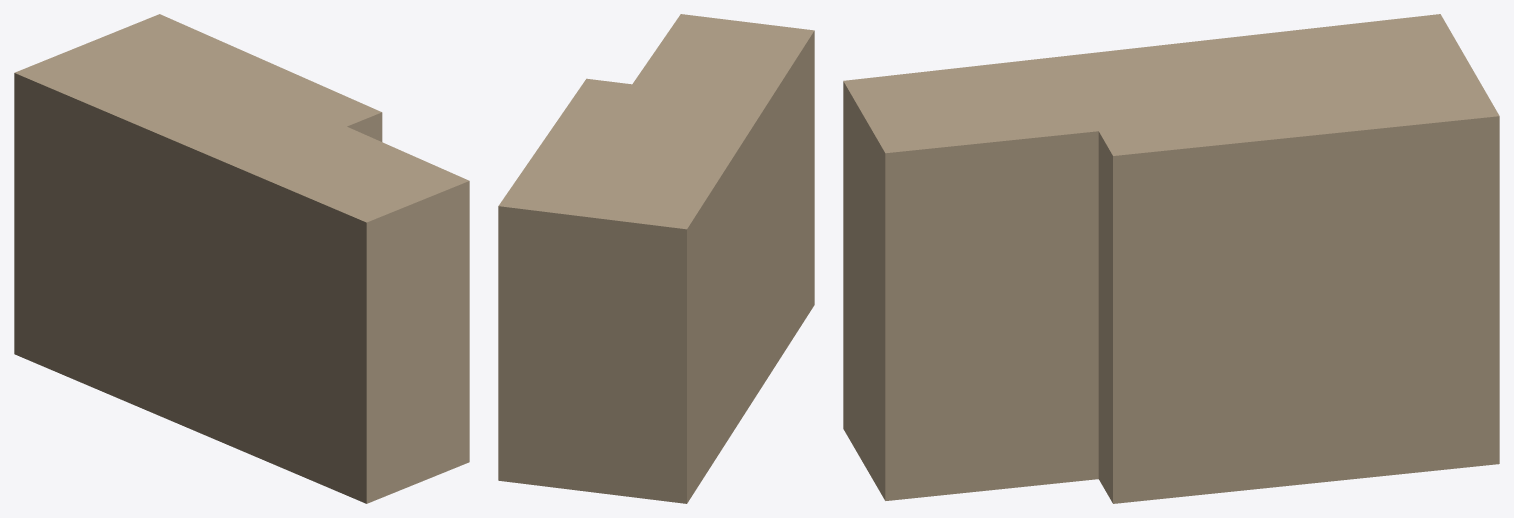
File: bld_107625395.dae
The picture shows the model from 3 angles, left to right: view 1: azimuth 30°, elevation 25°; view 2: azimuth 150°, elevation 25°; view 3: azimuth 270°, elevation 25°; orthographic projection. The views are drawn at different scales.
Visible parts, largest first — view 1: bld_107625395; view 2: bld_107625395; view 3: bld_107625395.
Part boxes in pixels (<box>): bld_107625395: <box>14,14,469,503</box>; bld_107625395: <box>498,14,814,503</box>; bld_107625395: <box>843,14,1499,503</box>.
Bounding box in the file's own units: 7.01 × 13.68 × 8.
